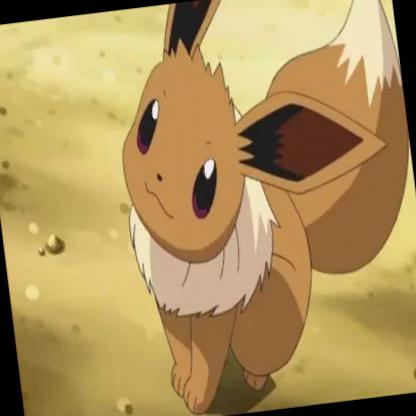Eevee: (75, 6, 398, 416)
